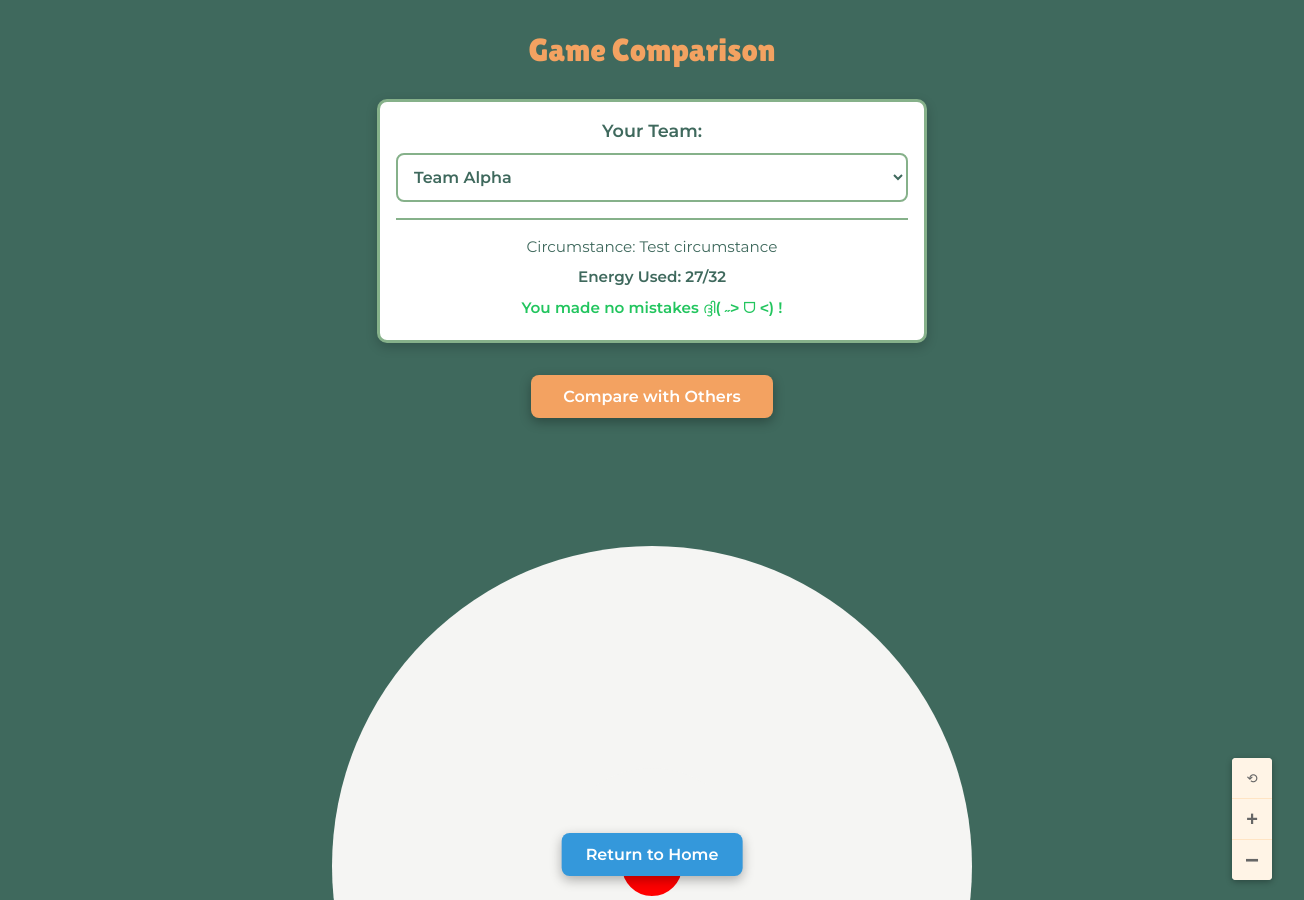
GameComparison Component › toggles to comparison mode when button is clicked
The width and height of the screenshot is (1304, 900).
Step 1. Click the button "Compare with Others" → point(652, 396), box [531,375,773,418]
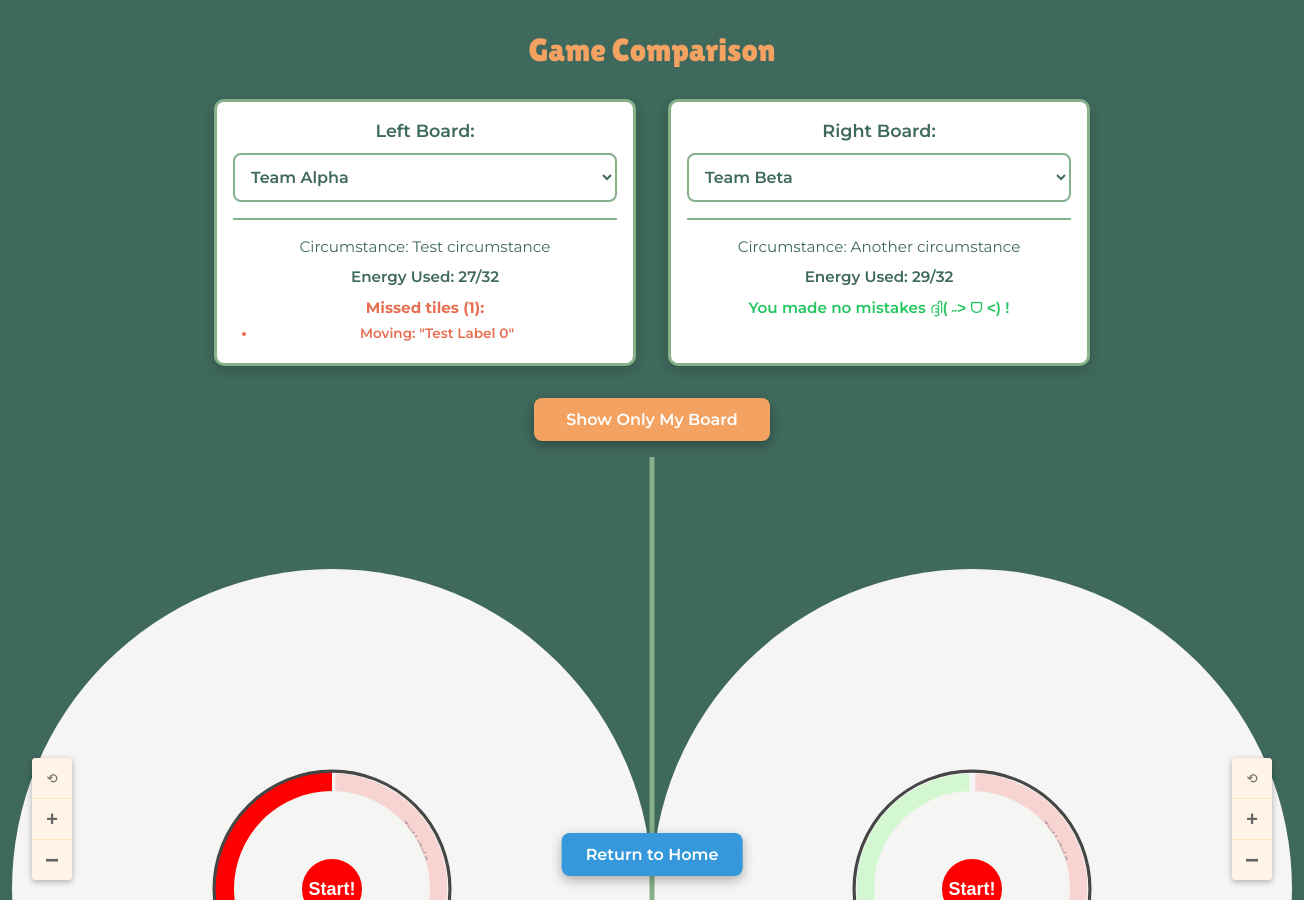
Expected: the button "Show Only My Board" is shown, [534,398,770,441]
Expected: the text "Left Board:" is shown, [376,120,475,141]
Expected: the text "Right Board:" is shown, [822,120,936,141]
